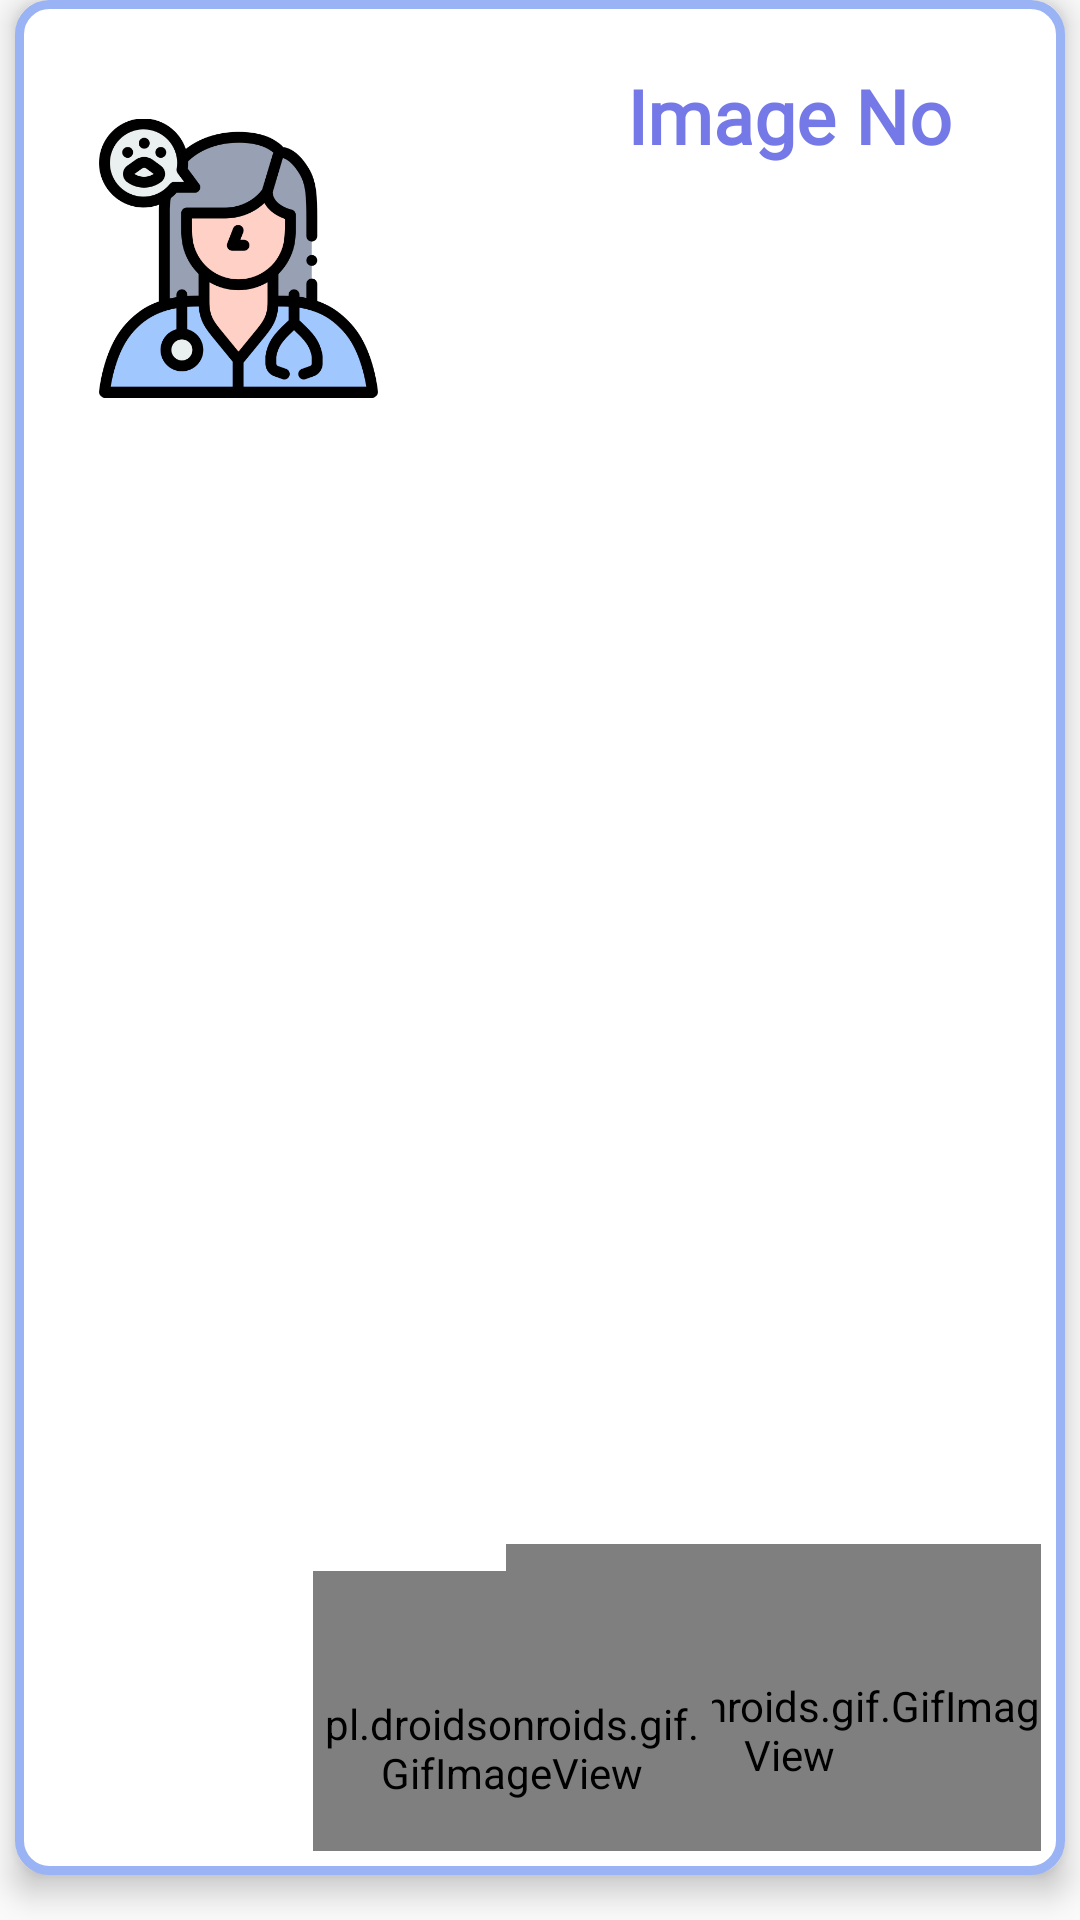

Where icons sit on this 1080x1920 app screen, as (x1, y1, x2, y2):
veterinary: (99, 119, 378, 398)
